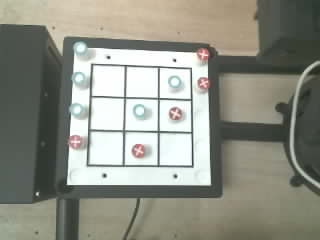blue circle: (69, 103, 83, 116), (72, 72, 85, 85), (73, 42, 87, 54), (133, 104, 145, 117), (168, 76, 181, 87)
board: (67, 42, 211, 185)
cells: (125, 132, 157, 165), (89, 132, 122, 164), (159, 100, 191, 131), (91, 98, 123, 129), (160, 133, 191, 165), (92, 66, 124, 96), (126, 67, 157, 97), (160, 68, 190, 98), (133, 104, 145, 118)
grid: (86, 64, 193, 167)
red cross: (68, 135, 83, 148), (197, 77, 211, 90), (131, 144, 144, 157), (196, 48, 209, 60), (169, 107, 181, 119)
